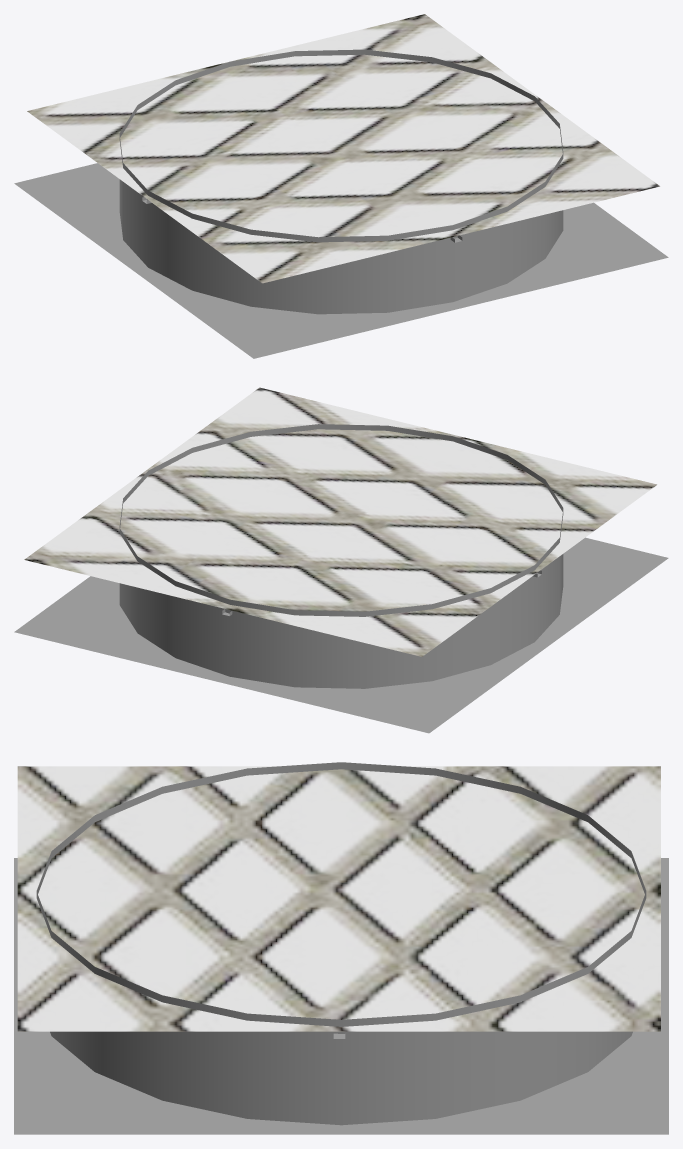
The model's file is Fan Holder.fbx.
3 renders of one model, top to bottom at view 1: azimuth 30°, elevation 25°; view 2: azimuth 150°, elevation 25°; view 3: azimuth 270°, elevation 25°, orthographic. The views are drawn at different scales.
Parts seen in each view (by area): view 1: pPlane15, pCylinder32; view 2: pPlane15, pCylinder32; view 3: pPlane15, pCylinder32.
Boxes of the visible parts, left/top/right/bottom form: pPlane15: left=27, top=14, right=659, bottom=283; pCylinder32: left=14, top=49, right=668, bottom=358; pPlane15: left=24, top=387, right=656, bottom=656; pCylinder32: left=14, top=424, right=668, bottom=733; pPlane15: left=17, top=766, right=660, bottom=1031; pCylinder32: left=14, top=762, right=668, bottom=1134.
Bounding box in the file's own units: 186 × 33.01 × 186.
Materials: 2 (1 with a texture image).
